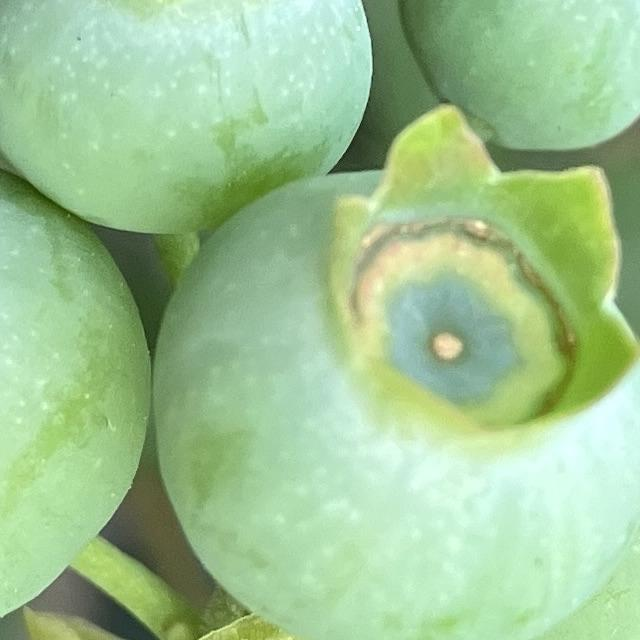Blueberries: (148, 101, 640, 640), (0, 0, 378, 238), (0, 117, 149, 640), (389, 0, 640, 163)
